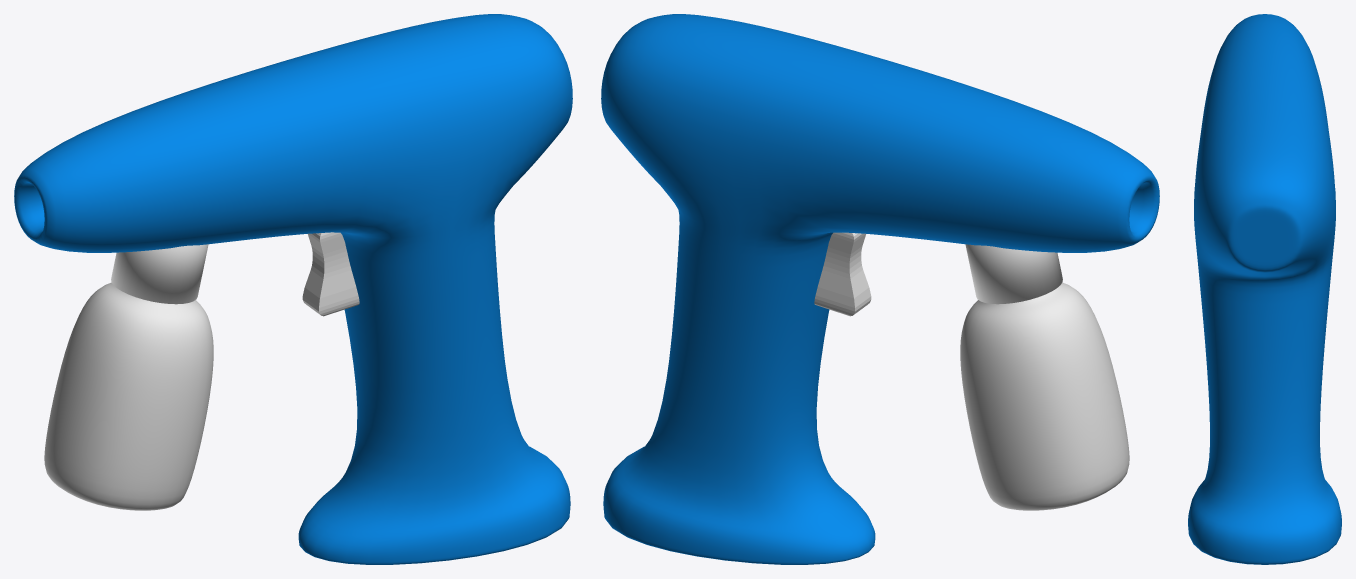
The model's file is Gun.fbx.
The picture shows the model from 3 angles, left to right: view 1: azimuth 30°, elevation 25°; view 2: azimuth 150°, elevation 25°; view 3: azimuth 270°, elevation 25°; orthographic projection. The views are drawn at different scales.
Visible parts, largest first — view 1: Cube, Cube.001, Cylinder, Cube.002; view 2: Cube, Cube.001, Cylinder, Cube.002; view 3: Cube.
Boxes of the visible parts, x1,y1,x2,y2 form: Cube: (14, 14, 572, 564); Cube.001: (44, 282, 213, 510); Cylinder: (111, 244, 208, 304); Cube.002: (302, 232, 359, 316); Cube: (601, 14, 1159, 564); Cube.001: (960, 282, 1129, 510); Cylinder: (965, 244, 1062, 304); Cube.002: (814, 232, 871, 316); Cube: (1188, 14, 1341, 564).
Size of the model in its own units: 922 by 821 by 296.
